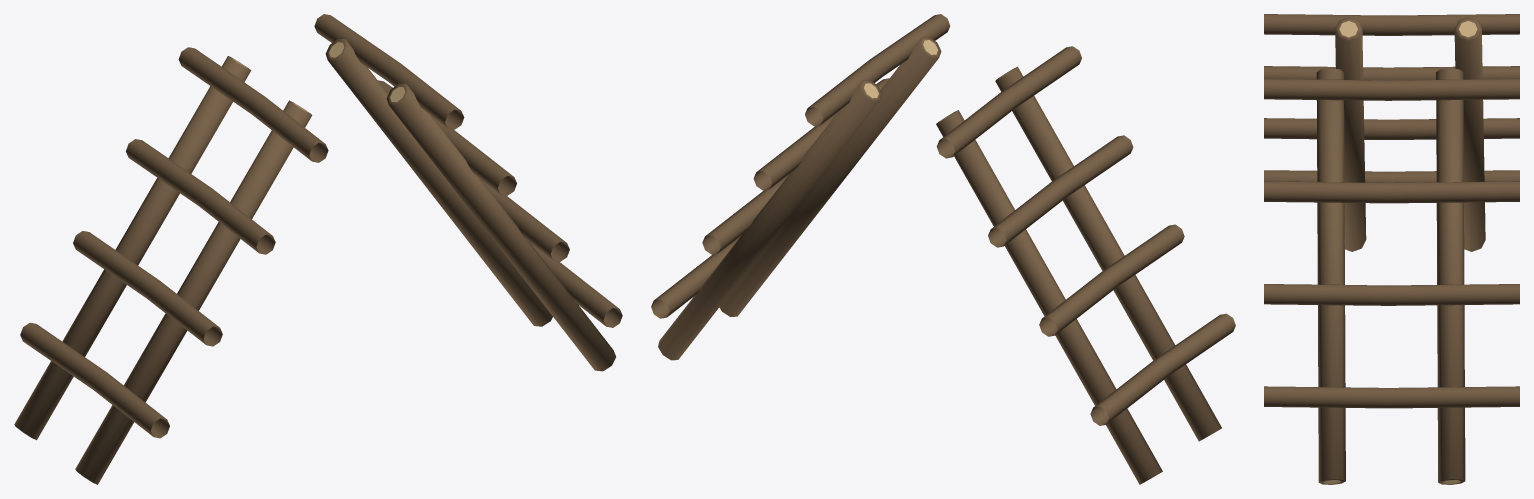
The model's file is rpgpp_ag_roof_support_01_6x5x3_chimney_01.fbx.
3 renders of one model, left to right at view 1: azimuth 30°, elevation 25°; view 2: azimuth 150°, elevation 25°; view 3: azimuth 270°, elevation 25°, orthographic. The views are drawn at different scales.
Parts seen in each view (by area): view 1: rpgpp_ag_roof_support_01_6x5x3_chimney_01; view 2: rpgpp_ag_roof_support_01_6x5x3_chimney_01; view 3: rpgpp_ag_roof_support_01_6x5x3_chimney_01.
Boxes of the visible parts, box(x1,y1,x2,y2) form: rpgpp_ag_roof_support_01_6x5x3_chimney_01: box(14, 14, 622, 484); rpgpp_ag_roof_support_01_6x5x3_chimney_01: box(651, 14, 1235, 484); rpgpp_ag_roof_support_01_6x5x3_chimney_01: box(1264, 14, 1519, 484).
Size of the model in its own units: 6.98 by 4.24 by 3.
